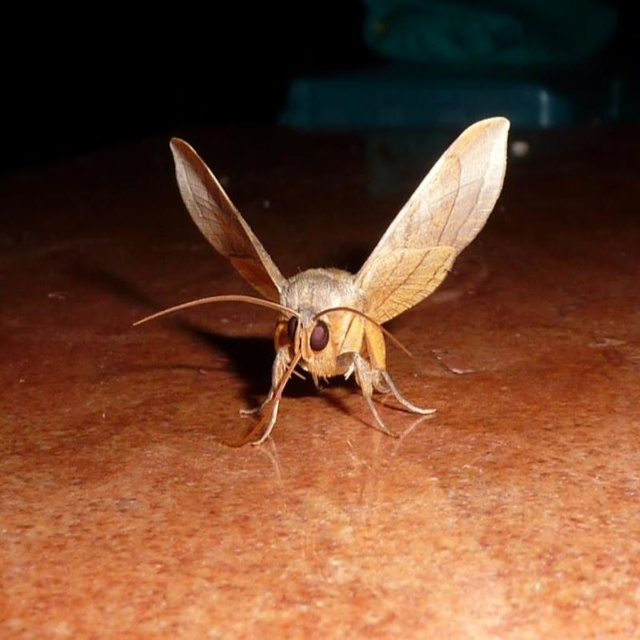Moths and butterflies: (134, 116, 514, 447)
